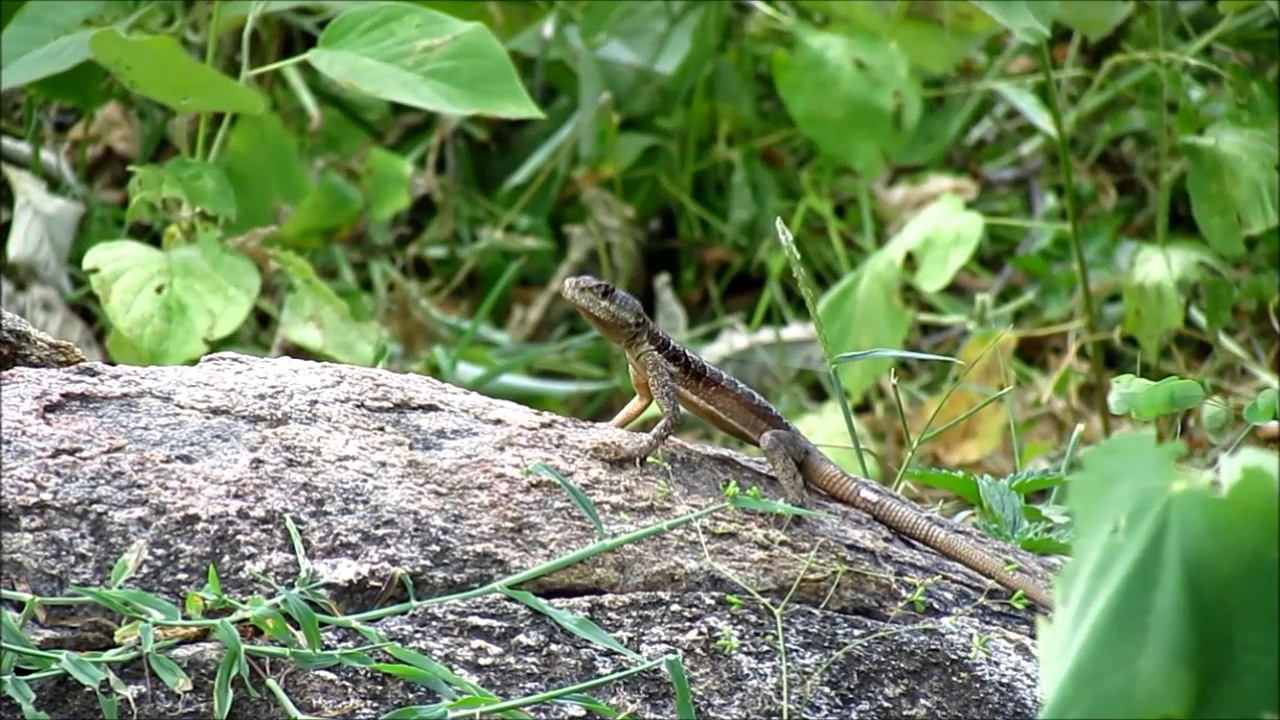body: (608, 317, 1056, 615)
head: (561, 275, 644, 344)
